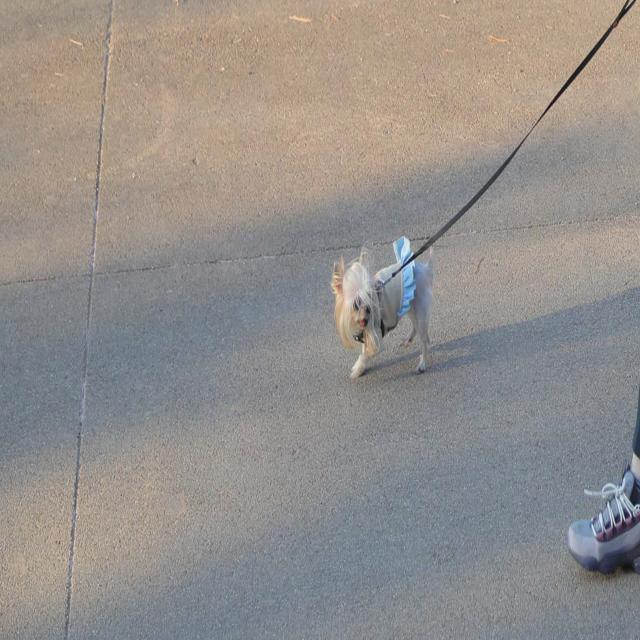Dog: (331, 235, 433, 380)
